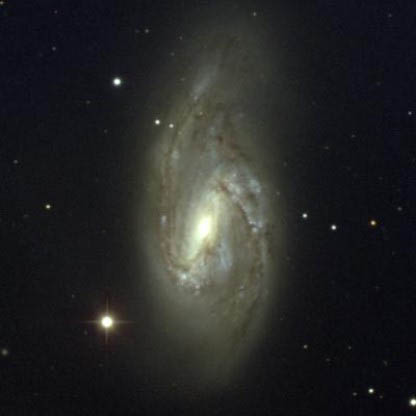Messier 66: (86, 38, 292, 385)
